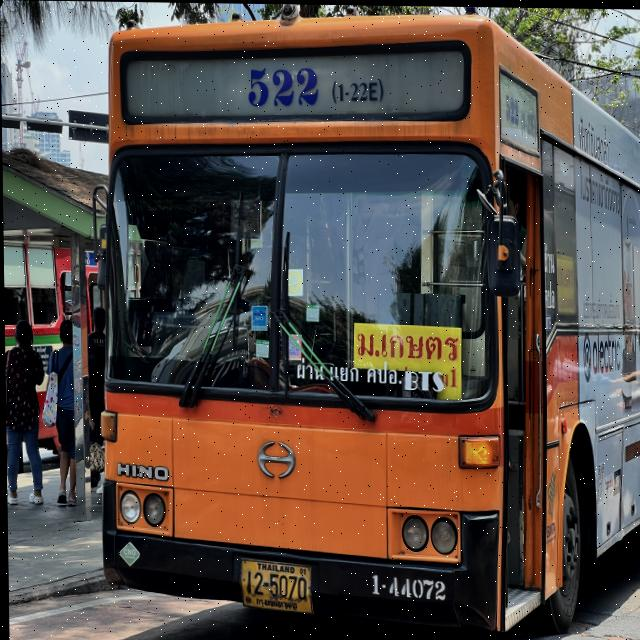BMTA-bus: (93, 9, 640, 635)
Bus-Line-Number: (238, 59, 388, 117)
Destination-Sign-Extra-Bus-Expressway: (350, 324, 463, 402)
